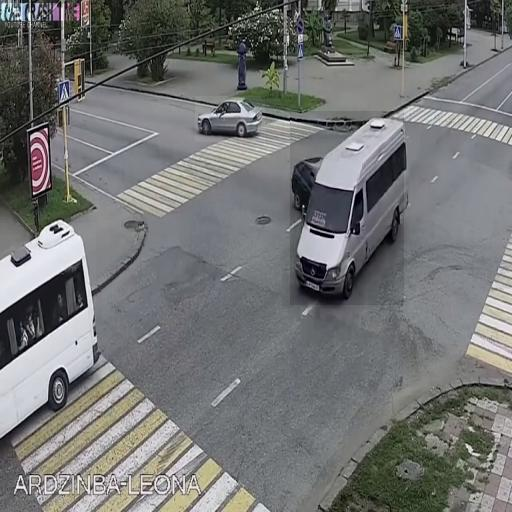小汽车: (0, 223, 96, 432), (195, 96, 265, 142)
小汽车撞小汽车: (290, 112, 404, 306)
